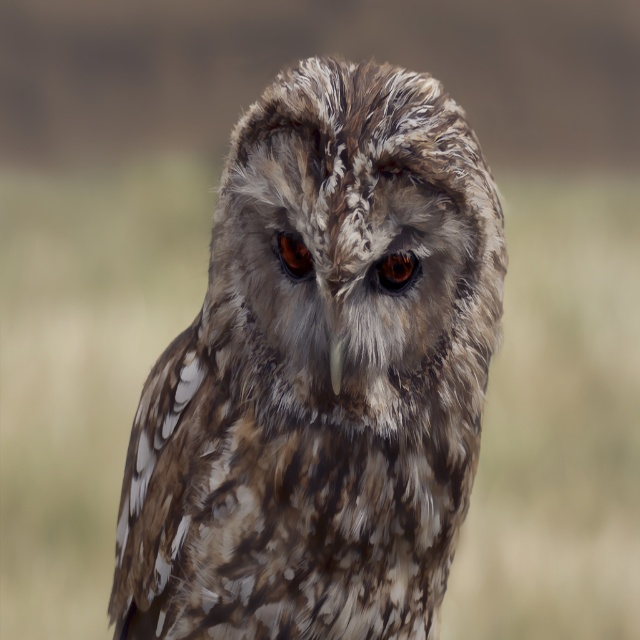Owl: (108, 51, 513, 640)
